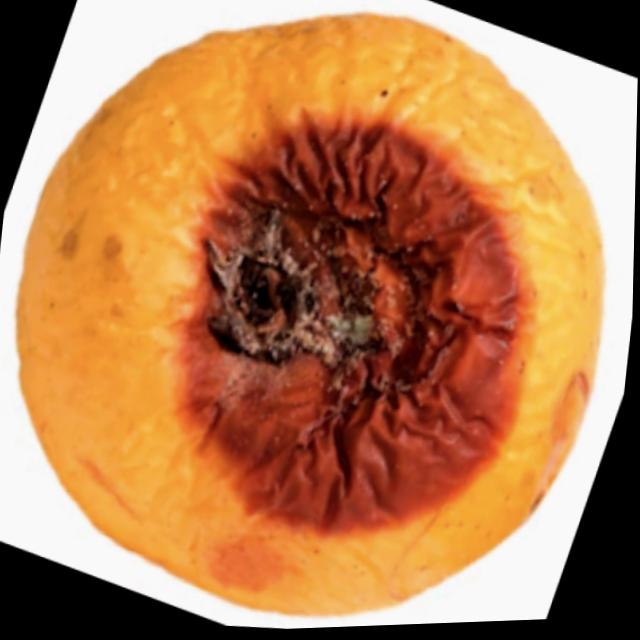organik: (0, 0, 629, 623)
